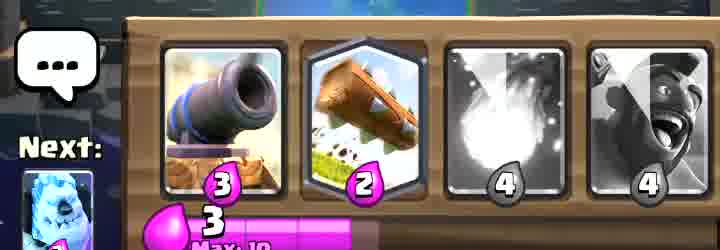cannon: (171, 50, 284, 196)
hog-rider: (585, 61, 680, 204)
ice-golem: (25, 171, 93, 249)
log: (310, 44, 423, 196)
